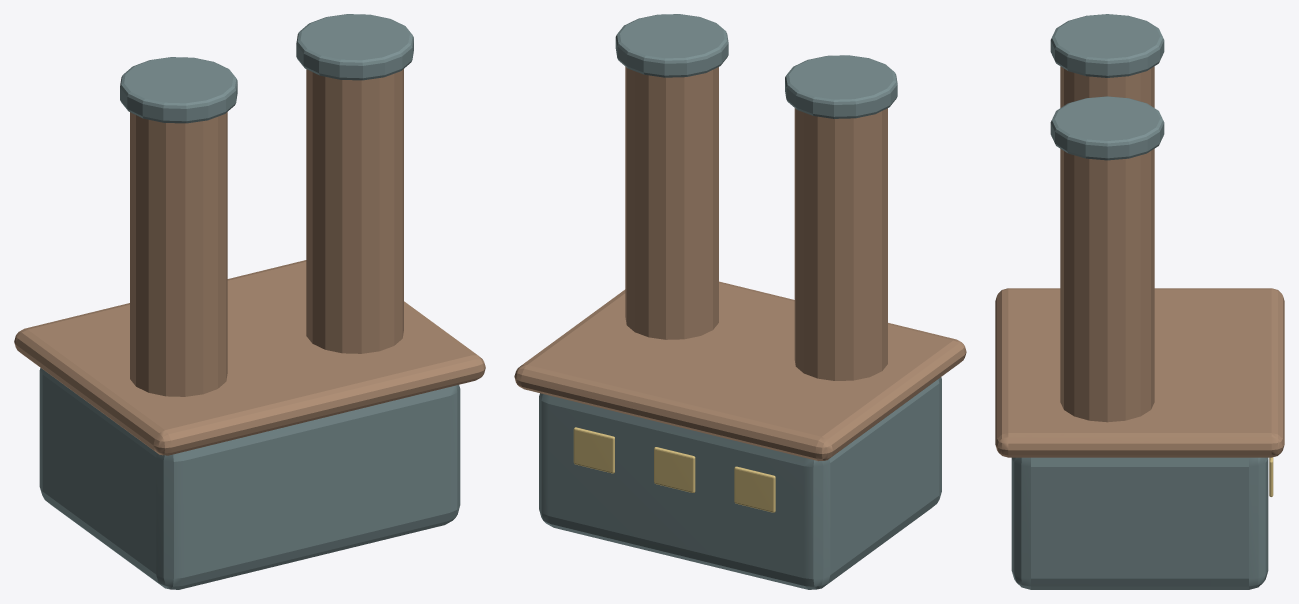
Rendered from foundry_stack.glb.
The picture shows the model from 3 angles, left to right: view 1: azimuth 30°, elevation 25°; view 2: azimuth 150°, elevation 25°; view 3: azimuth 270°, elevation 25°; orthographic projection. The views are drawn at different scales.
Parts seen in each view (by area): view 1: Surface_WorldRust, Surface_WorldMetal; view 2: Surface_WorldRust, Surface_WorldMetal, Surface_WorldBrass; view 3: Surface_WorldRust, Surface_WorldMetal.
Boxes of the visible parts, box(x1,y1,x2,y2) form: Surface_WorldRust: box(14, 69, 485, 455); Surface_WorldMetal: box(39, 14, 460, 589); Surface_WorldRust: box(514, 66, 966, 461); Surface_WorldMetal: box(539, 14, 941, 589); Surface_WorldBrass: box(573, 427, 775, 512); Surface_WorldRust: box(995, 66, 1284, 457); Surface_WorldMetal: box(1011, 14, 1268, 589).
Size of the model in its own units: 2.25 by 3.05 by 1.78.
